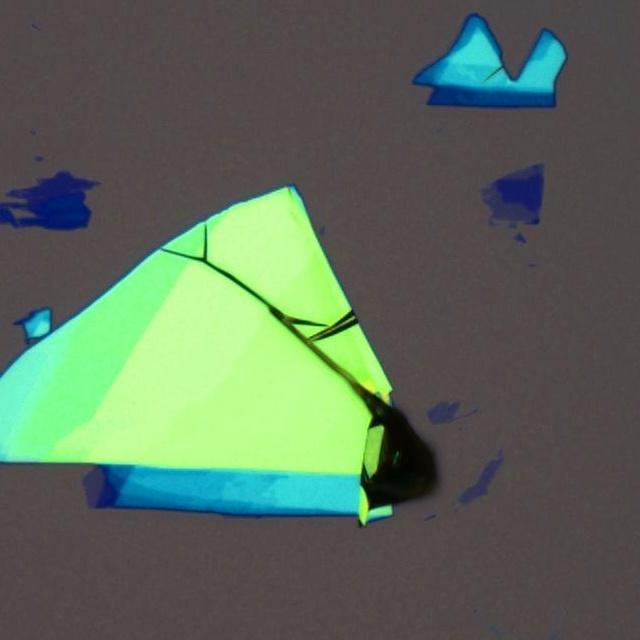monolayer-eWW4: (452, 446, 508, 510), (478, 180, 540, 226), (426, 398, 478, 426), (82, 466, 104, 509), (504, 160, 544, 180)
